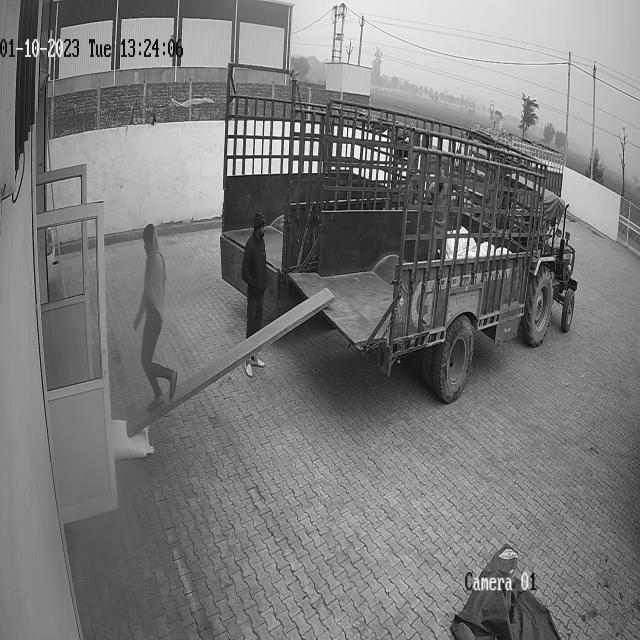sack: (111, 418, 152, 458)
